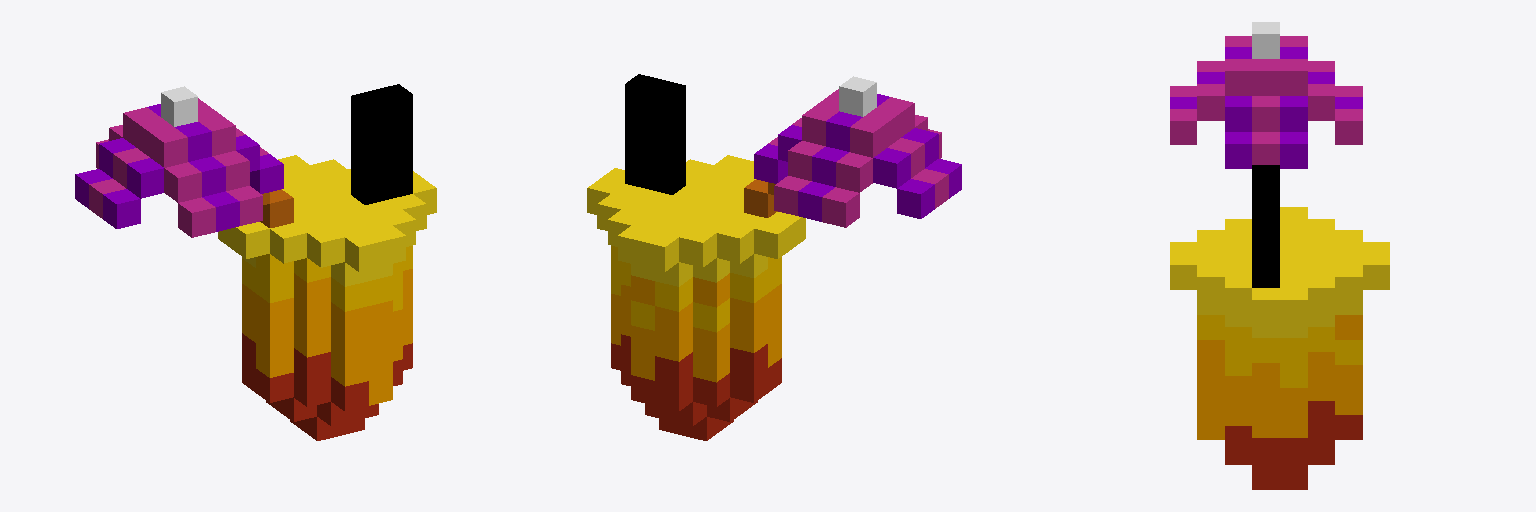
The picture shows the model from 3 angles: view 1: azimuth 30°, elevation 25°; view 2: azimuth 150°, elevation 25°; view 3: azimuth 270°, elevation 25°; orthographic projection.
Parts seen in each view (by area): view 1: object 1; view 2: object 1; view 3: object 1.
Boxes of the visible parts, box(x1,y1,x2,y2) form: object 1: box(75, 84, 436, 440); object 1: box(587, 74, 961, 440); object 1: box(1170, 22, 1389, 489).
Size of the model in its own units: 1.4 by 1.5 by 0.8.
Materials: 1 (1 with a texture image).